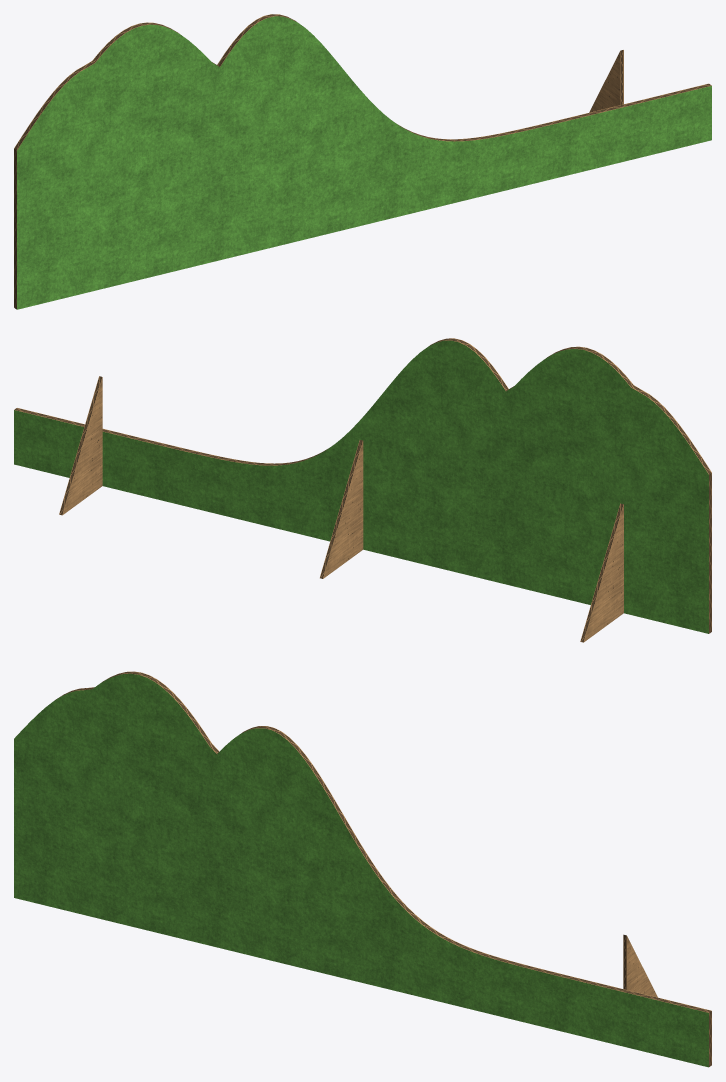
File: hill_backdrop_01.gltf
3 views of the same model, one above another, from view 1: azimuth 30°, elevation 25°; view 2: azimuth 150°, elevation 25°; view 3: azimuth 330°, elevation 25° (orthographic).
Visible parts, largest first — view 1: hill_backdrop_01; view 2: hill_backdrop_01; view 3: hill_backdrop_01.
Boxes of the visible parts, <box> form: hill_backdrop_01: <box>14,14,711,309</box>; hill_backdrop_01: <box>14,338,711,642</box>; hill_backdrop_01: <box>14,671,711,1067</box>.
Bounding box in the file's own units: 8 × 2.79 × 0.86.
3 materials, 3 textured.
